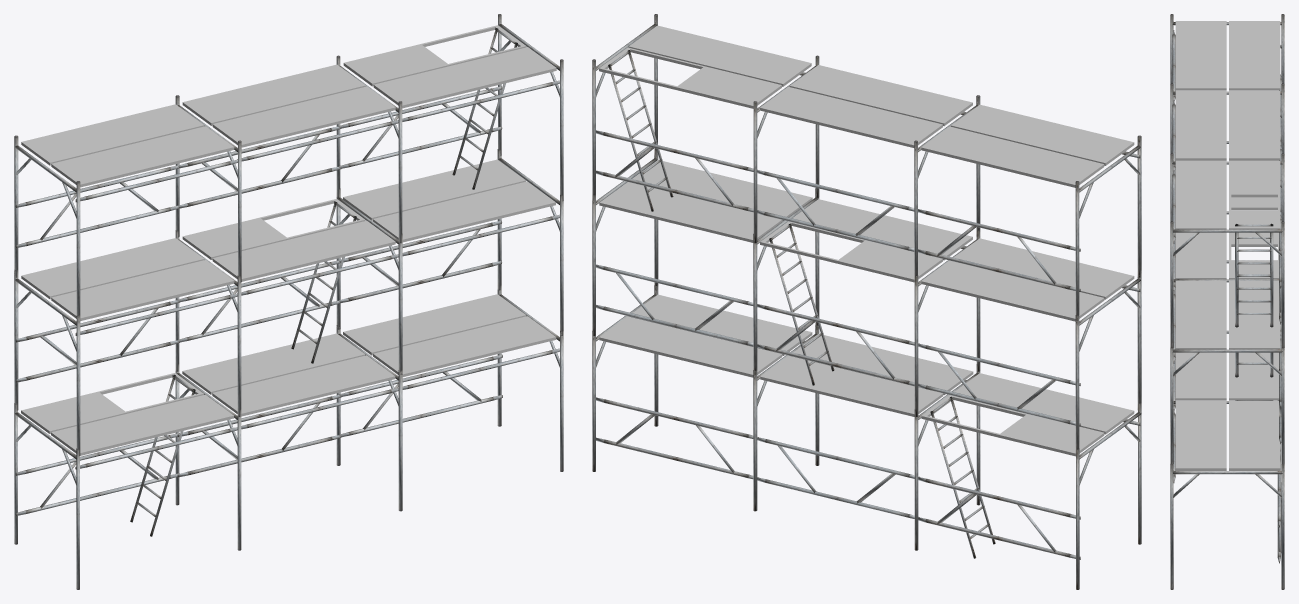
The model's file is scaffolding.fbx.
3 renders of one model, left to right at view 1: azimuth 30°, elevation 25°; view 2: azimuth 150°, elevation 25°; view 3: azimuth 270°, elevation 25°, orthographic. The views are drawn at different scales.
Parts seen in each view (by area): view 1: floor700, frame700, ladders700; view 2: floor700, frame700, ladders700; view 3: floor700, frame700, ladders700.
Boxes of the visible parts, x1,y1,x2,y2 form: floor700: [21, 25, 556, 455]; frame700: [14, 14, 563, 589]; ladders700: [130, 28, 517, 536]; floor700: [599, 25, 1134, 456]; frame700: [592, 14, 1141, 589]; ladders700: [608, 50, 995, 558]; floor700: [1175, 21, 1280, 470]; frame700: [1170, 14, 1284, 589]; ladders700: [1235, 223, 1273, 400].
Size of the model in its own units: 15 by 12.13 by 3.41.
